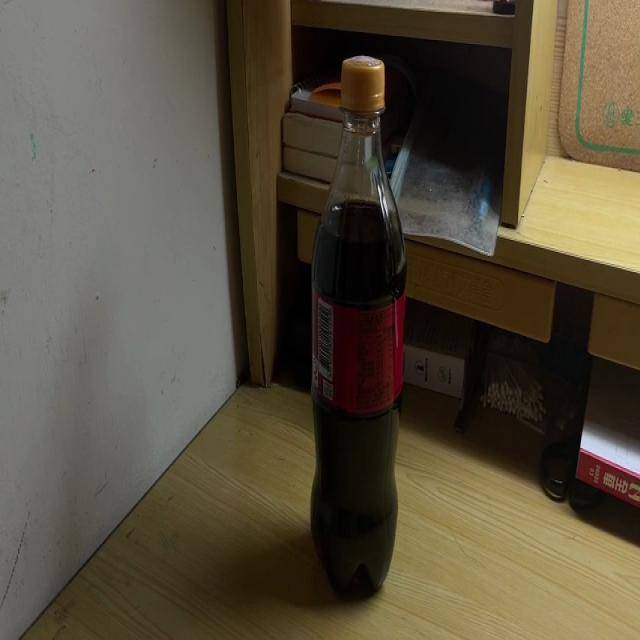Coca-Cola: (309, 57, 406, 596)
